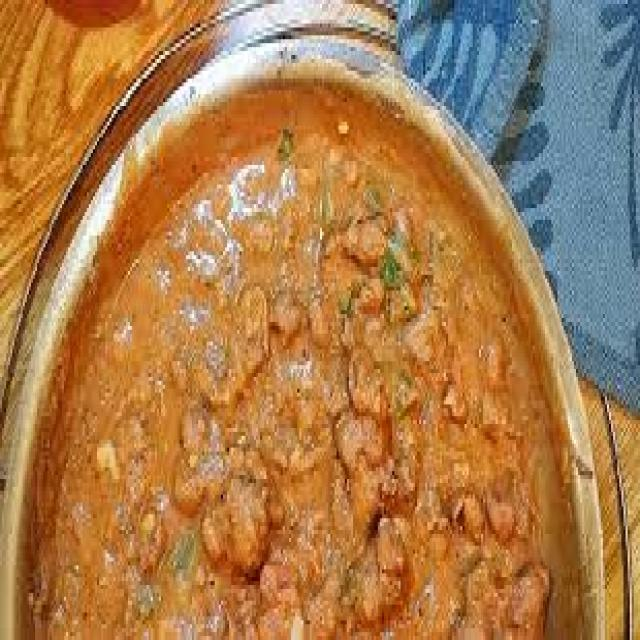fool: (36, 95, 564, 640)
